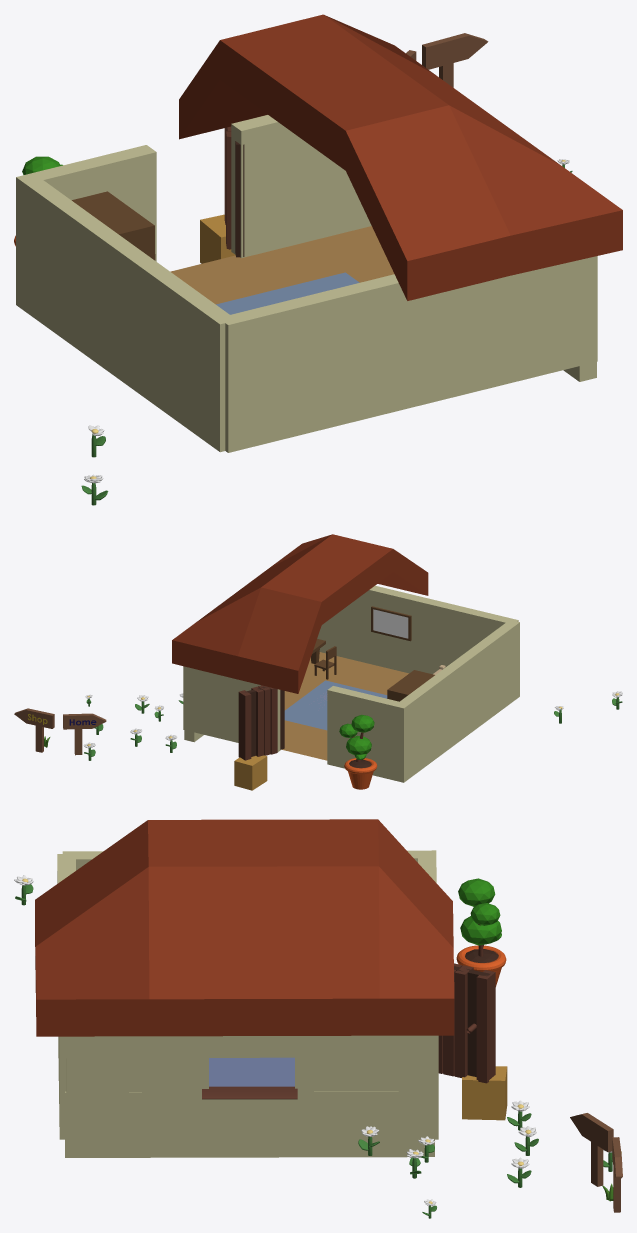
Rendered from room.glb.
3 views of the same model, one above another, from view 1: azimuth 30°, elevation 25°; view 2: azimuth 150°, elevation 25°; view 3: azimuth 270°, elevation 25° (orthographic). The views are drawn at different scales.
Visible parts, largest first — view 1: Cube.082, Cube.085, Cube.086, Cube.084, Plane.004, Cube.083, Cube.096, Plane.005, Cube.330, Cube.125, Cube.046; view 2: Cube.082, Cube.086, Cube.085, Cube.083, Cube.084, Plane.004, Plane.005, Cube.125, Cube.078, Cube.331, Capture d’écran 2023-05-18 185924, Cube.330 (+8 smaller); view 3: Cube.082, Cube.087, Cube.335, Cube.337, Cube.338, Cube.336, Cube.078, Cube.125, Cube.079, Cube.331, Cylinder.167, Cube.085 (+7 smaller).
Part boxes in pixels (x1,y1,x2,y2): Cube.082: (179, 14, 622, 300); Cube.085: (218, 256, 597, 452); Cube.086: (18, 174, 236, 452); Cube.084: (231, 115, 371, 257); Plane.004: (170, 226, 394, 304); Cube.083: (16, 145, 156, 311); Cube.096: (72, 191, 155, 260); Plane.005: (216, 272, 359, 314); Cube.330: (422, 33, 488, 87); Cube.125: (200, 214, 235, 263); Cube.046: (235, 141, 244, 257); Cube.082: (172, 534, 428, 693); Cube.086: (395, 620, 519, 777); Cube.085: (317, 585, 518, 674); Cube.083: (327, 686, 409, 782); Cube.084: (183, 666, 280, 751); Plane.004: (282, 652, 408, 760); Plane.005: (284, 680, 387, 730); Cube.125: (234, 755, 267, 790); Cube.078: (238, 690, 251, 760); Cube.331: (63, 713, 106, 755); Capture d’écran 2023-05-18 185924: (373, 609, 408, 638); Cube.330: (14, 708, 54, 752); Cube.082: (35, 819, 454, 1036); Cube.087: (65, 1091, 434, 1157); Cube.335: (65, 1035, 434, 1058); Cube.337: (66, 1058, 208, 1092); Cube.338: (295, 1057, 420, 1091); Cube.336: (209, 1057, 294, 1086); Cube.078: (476, 970, 495, 1083); Cube.125: (462, 1066, 507, 1120); Cube.079: (454, 965, 473, 1077); Cube.331: (570, 1113, 613, 1186); Cylinder.167: (202, 1086, 297, 1099); Cube.085: (57, 853, 75, 1139).
Size of the model in its own units: 35.55 by 13.39 by 27.98.
